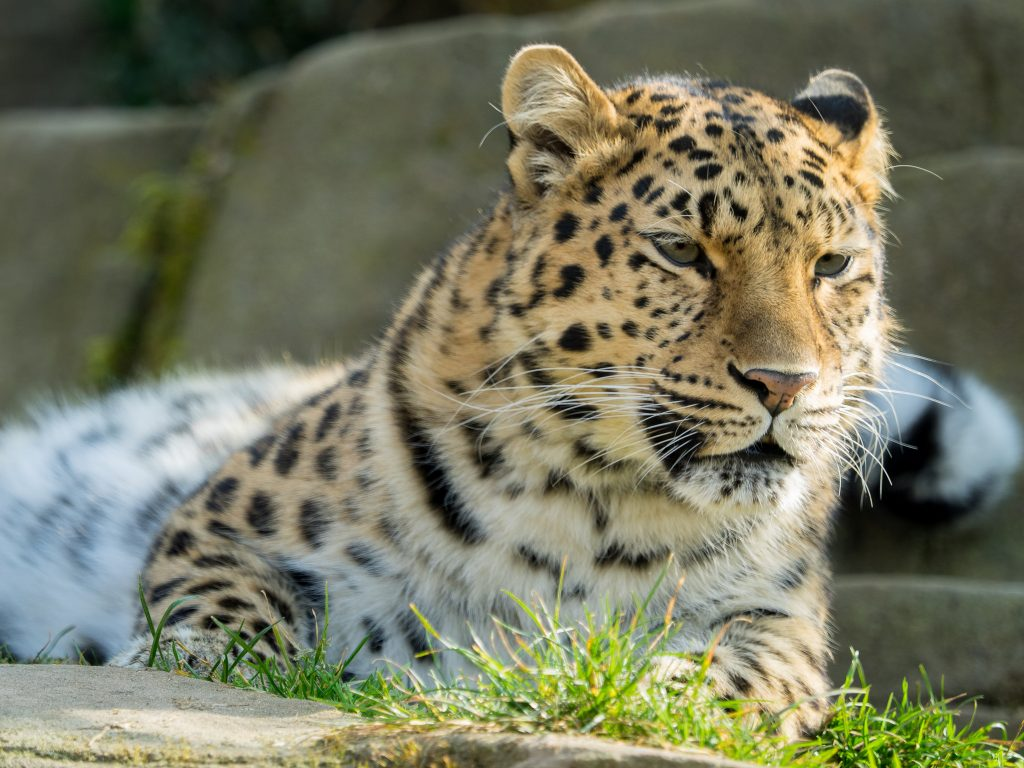amur_leopard: (151, 33, 922, 748)
